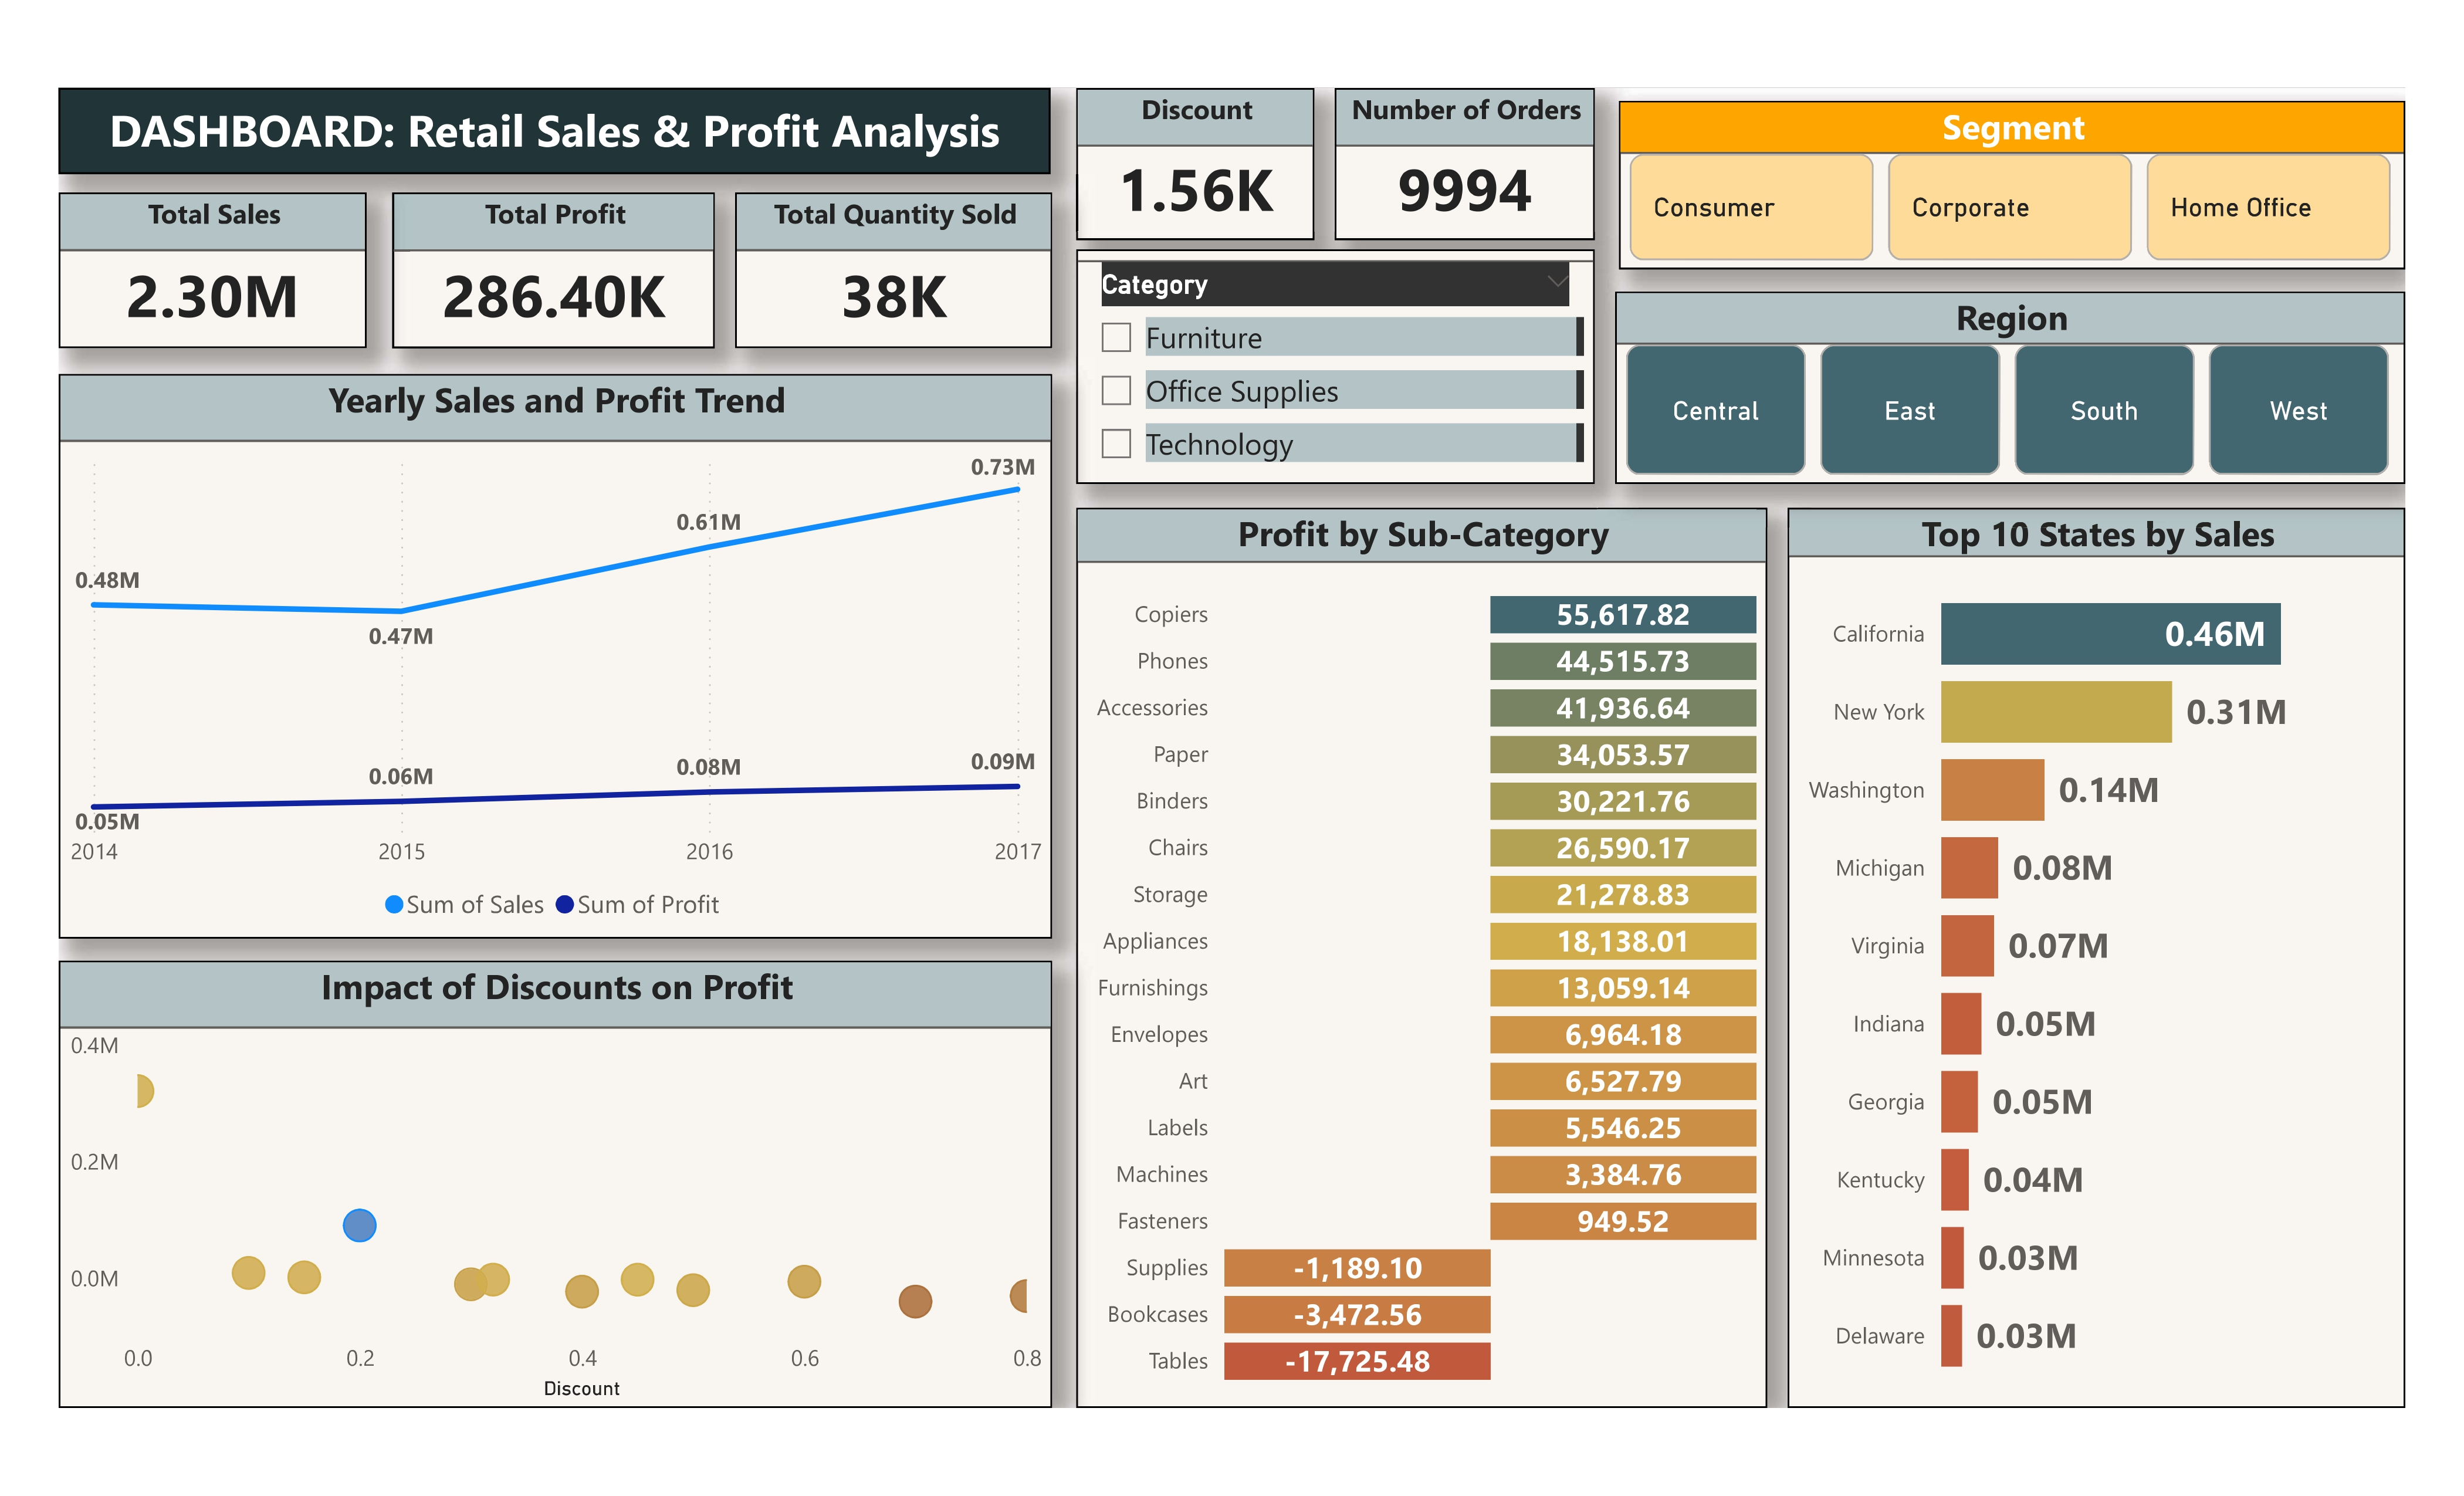

The dashboard page shown, as its layout file describes it:
{"tool":"powerbi","page":{"name":"DASHBOARD","canvas":[1280,720],"ordinal":5},"visuals":[{"type":"textbox","box":[0,0,541,47],"z":0},{"type":"card","title":"Discount","fields":{"Values":["Sum(Orders.Discount)"]},"box":[554.7,0,130.1,83],"z":1000},{"type":"card","title":"Total Profit","fields":{"Values":["Sum(Orders.Profit)"]},"box":[182.2,56.9,175.7,84.6],"z":2000},{"type":"card","title":"Total Sales","fields":{"Values":["Sum(Orders.Sales)"]},"box":[0,56.9,167.5,84.6],"z":3000},{"type":"card","title":"Total Quantity Sold","fields":{"Values":["Sum(Orders.Quantity)"]},"box":[369.2,56.9,172.4,84.6],"z":4000},{"type":"card","title":"Number of Orders","fields":{"Values":["CountNonNull(Orders.Order ID)"]},"box":[696.2,0,141.5,83],"z":5000},{"type":"slicer","fields":{"Values":["Orders.Category"]},"box":[554.7,87.8,283,128.5],"z":6000},{"type":"advancedSlicerVisual","fields":{"Values":["Orders.Segment"]},"box":[850.6,6.5,429.4,92.7],"z":7000},{"type":"lineChart","title":"Yearly Sales and Profit Trend","fields":{"Category":["Orders.Order Date.Variation.Date Hierarchy.Year"],"Y":["Sum(Orders.Sales)","Sum(Orders.Profit)"]},"box":[0,156.1,541.6,307.4],"z":8000},{"type":"hundredPercentStackedBarChart","title":"Profit by Sub-Category","fields":{"Y":["Sum(Orders.Profit)"],"Category":["Orders.Sub-Category"]},"box":[554.7,228.8,377.4,491.2],"z":9000},{"type":"barChart","title":"Top 10 States by Sales","fields":{"Category":["Orders.State"],"Y":["Sum(Orders.Sales)"]},"box":[943.3,228.8,336.7,491.2],"z":10000},{"type":"scatterChart","title":"Impact of Discounts on Profit","fields":{"X":["Orders.Discount"],"Y":["Sum(Orders.Profit)"]},"box":[0,476,541.6,244],"z":11000},{"type":"advancedSlicerVisual","fields":{"Values":["Orders.Region"]},"box":[849,110.6,431,105.7],"z":12000}]}

Visuals, with their boxes in screenshot pixels (x1, y1, x2, y2):
textbox: Rect(52, 83, 1042, 170)
"Discount" card: Rect(1067, 83, 1305, 235)
"Total Profit" card: Rect(385, 188, 707, 343)
"Total Sales" card: Rect(52, 188, 358, 343)
"Total Quantity Sold" card: Rect(727, 188, 1043, 343)
"Number of Orders" card: Rect(1326, 83, 1585, 235)
slicer - Orders.Category: Rect(1067, 244, 1585, 479)
advancedSlicerVisual - Orders.Segment: Rect(1609, 95, 2395, 265)
"Yearly Sales and Profit Trend" lineChart: Rect(52, 369, 1043, 932)
"Profit by Sub-Category" hundredPercentStackedBarChart: Rect(1067, 502, 1758, 1402)
"Top 10 States by Sales" barChart: Rect(1779, 502, 2395, 1402)
"Impact of Discounts on Profit" scatterChart: Rect(52, 955, 1043, 1402)
advancedSlicerVisual - Orders.Region: Rect(1606, 286, 2395, 479)
